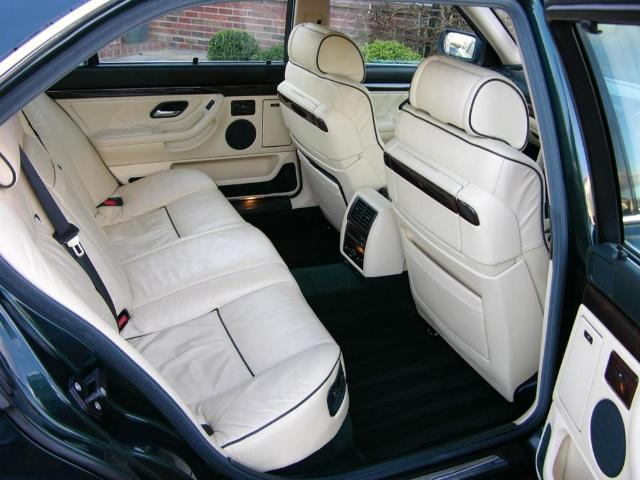Seatbelt: (18, 146, 118, 326)
